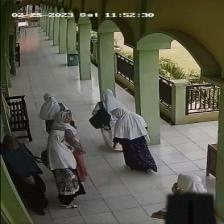Cadar_Niqab: (165, 172, 216, 224)
